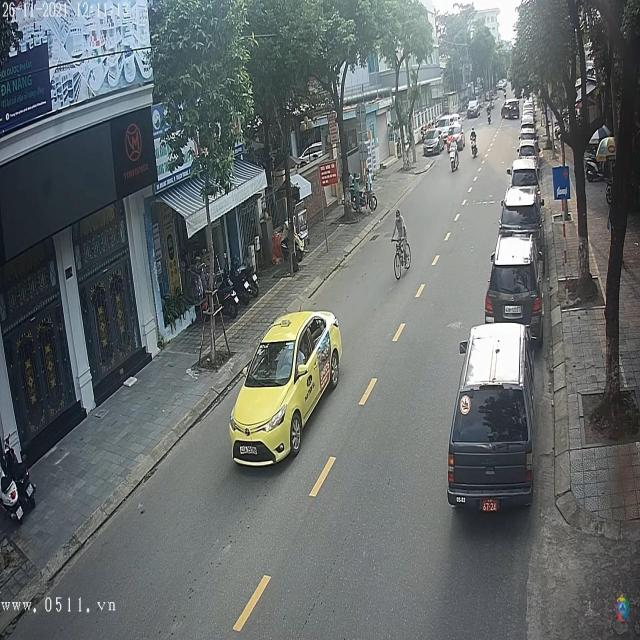car: (228, 308, 346, 468), (449, 324, 535, 510), (485, 242, 542, 339), (500, 188, 544, 237), (505, 163, 540, 200), (424, 127, 446, 155), (502, 100, 520, 119), (467, 98, 481, 117)
motorcycle: (449, 150, 459, 174)
